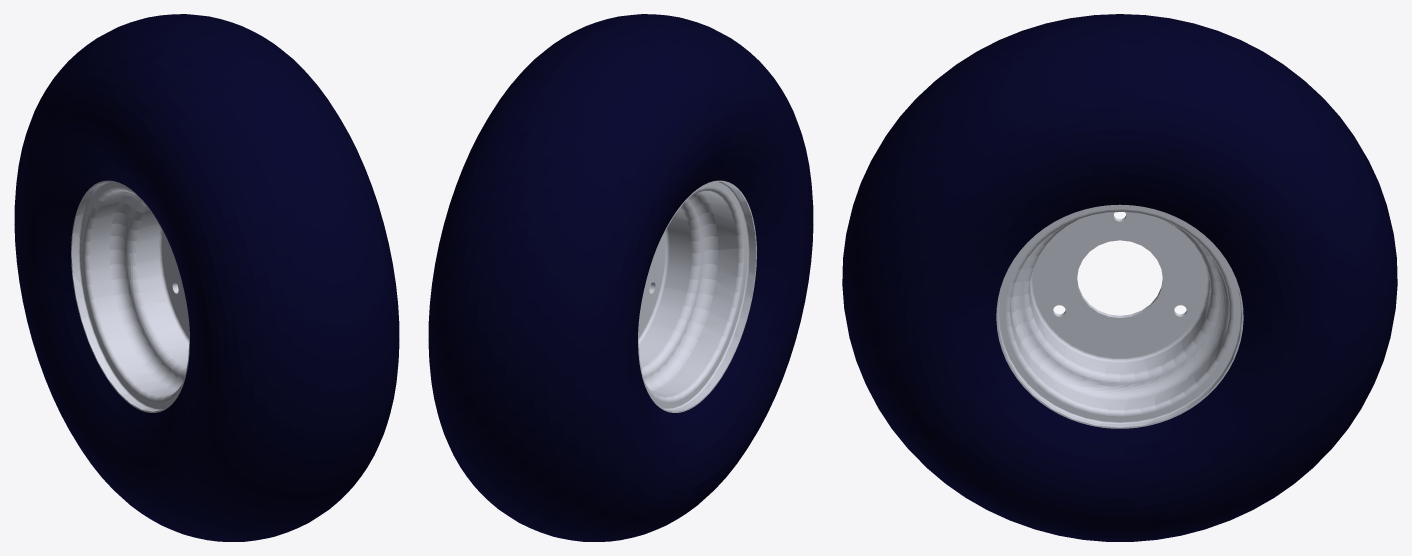
Rendered from newwheels.dae.
3 renders of one model, left to right at view 1: azimuth 30°, elevation 25°; view 2: azimuth 150°, elevation 25°; view 3: azimuth 270°, elevation 25°, orthographic. The views are drawn at different scales.
Parts seen in each view (by area): view 1: color-2, color; view 2: color-2, color; view 3: color-2, color.
Boxes of the visible parts, x1,y1,x2,y2 form: color-2: (14, 14, 399, 541); color: (71, 180, 189, 412); color-2: (428, 14, 813, 541); color: (638, 180, 756, 412); color-2: (842, 14, 1397, 541); color: (996, 204, 1243, 428).
Size of the model in its own units: 0.1397 by 0.3496 by 0.3495.
